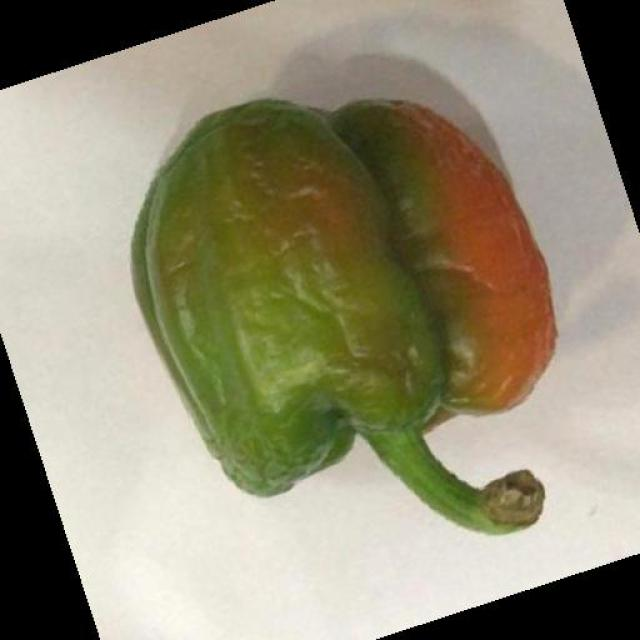Stale_Capsicum: (125, 89, 567, 557)
